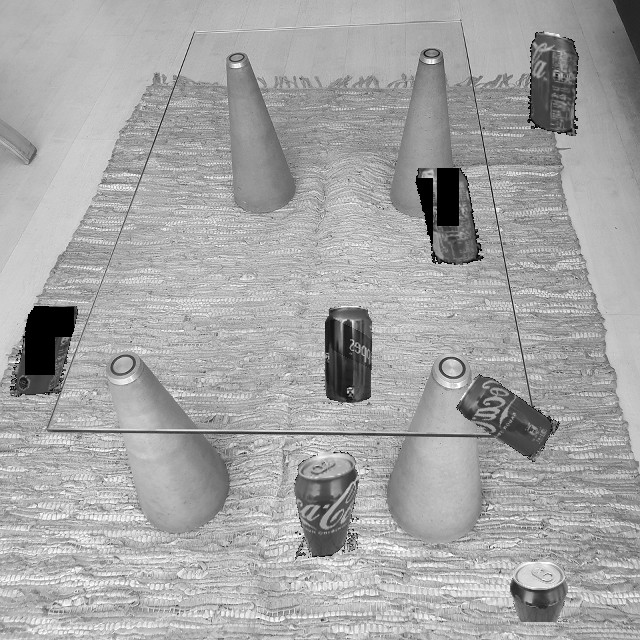coca cola: (455, 370, 561, 463), (513, 30, 593, 136), (294, 449, 359, 561), (10, 306, 82, 397)
schweppes: (323, 306, 373, 405), (510, 562, 568, 622)
sprite: (405, 168, 498, 266)
